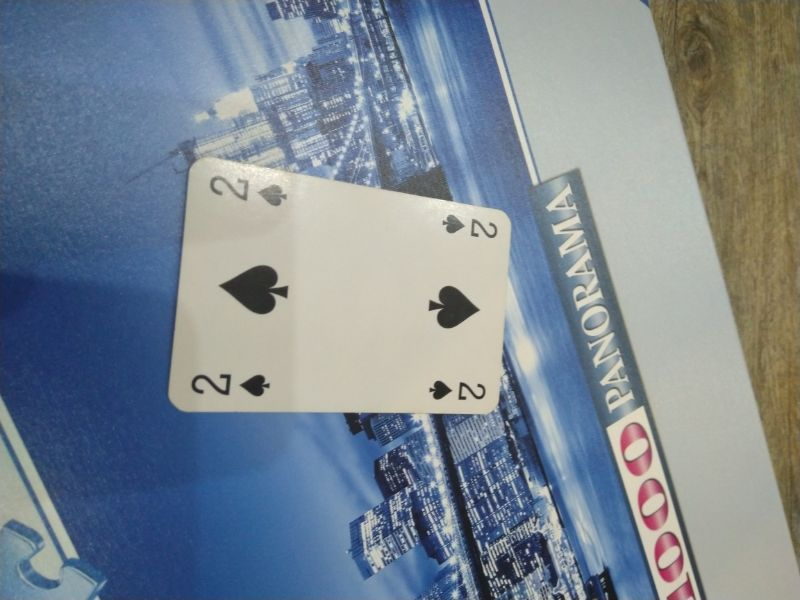2s: (204, 169, 291, 209), (187, 367, 272, 402), (441, 209, 499, 243), (427, 376, 490, 406)
